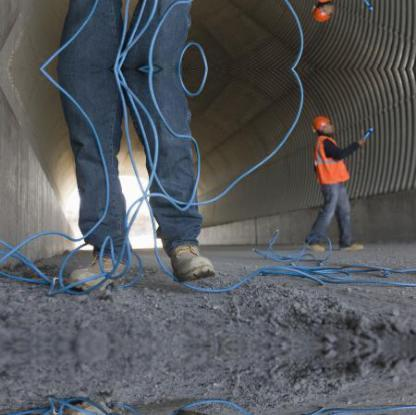helmet: (311, 111, 330, 134)
